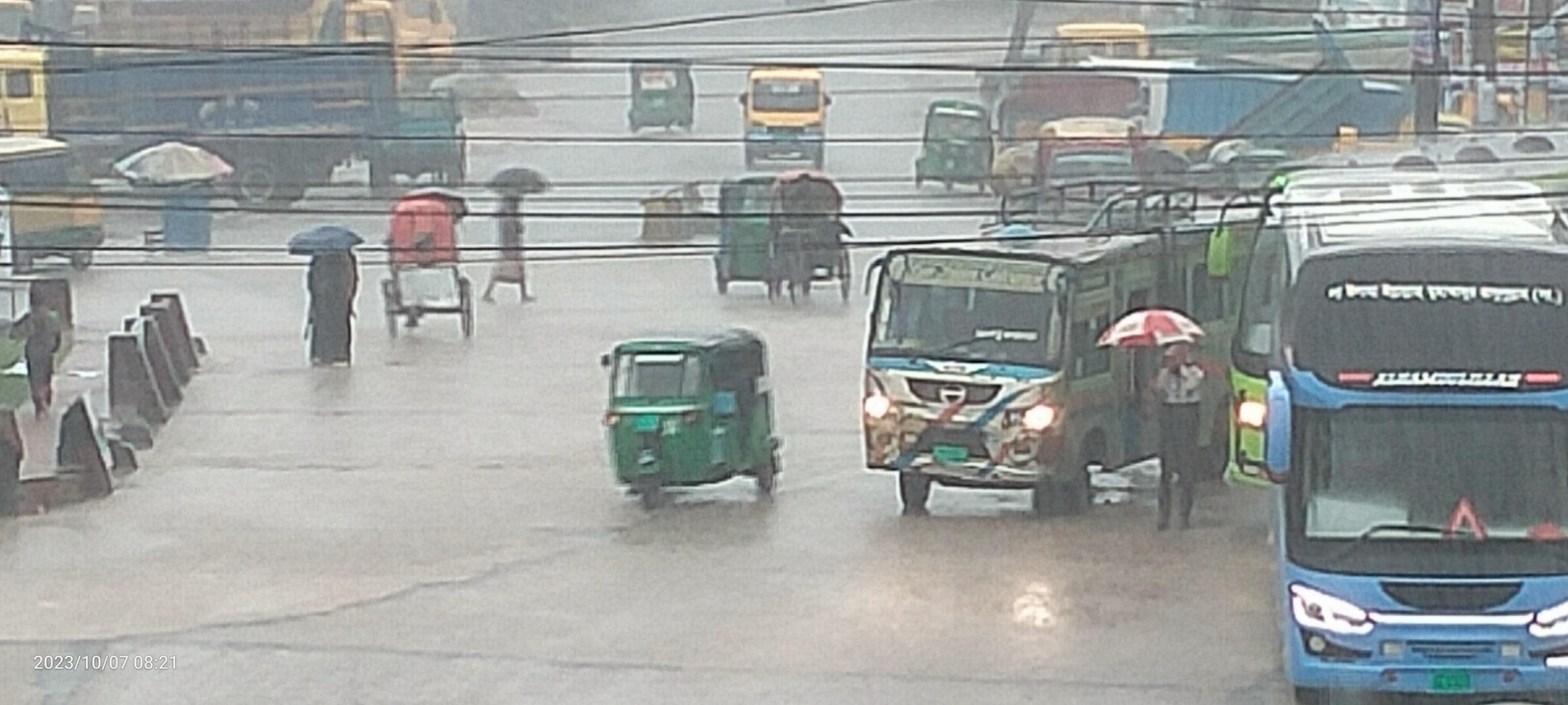Bus: (1234, 204, 1568, 705), (836, 201, 1312, 531)
Car: (375, 168, 510, 367), (768, 179, 875, 323)
Truck: (0, 0, 414, 215), (1019, 8, 1399, 78), (0, 113, 122, 298), (737, 53, 847, 180)
